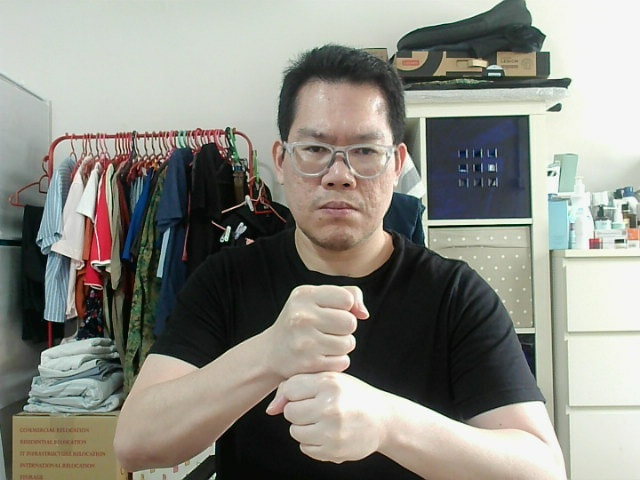get: (264, 291, 366, 364)
